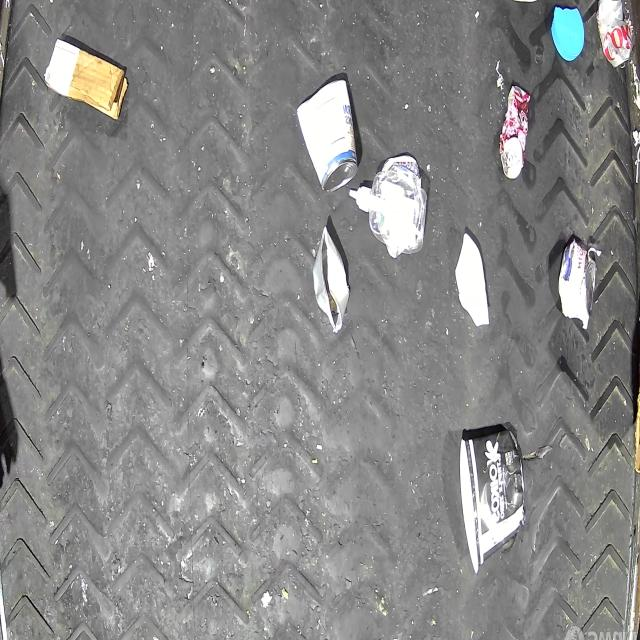can: (296, 78, 360, 194), (312, 226, 350, 334), (499, 84, 532, 180), (559, 242, 595, 322), (596, 0, 636, 71)
